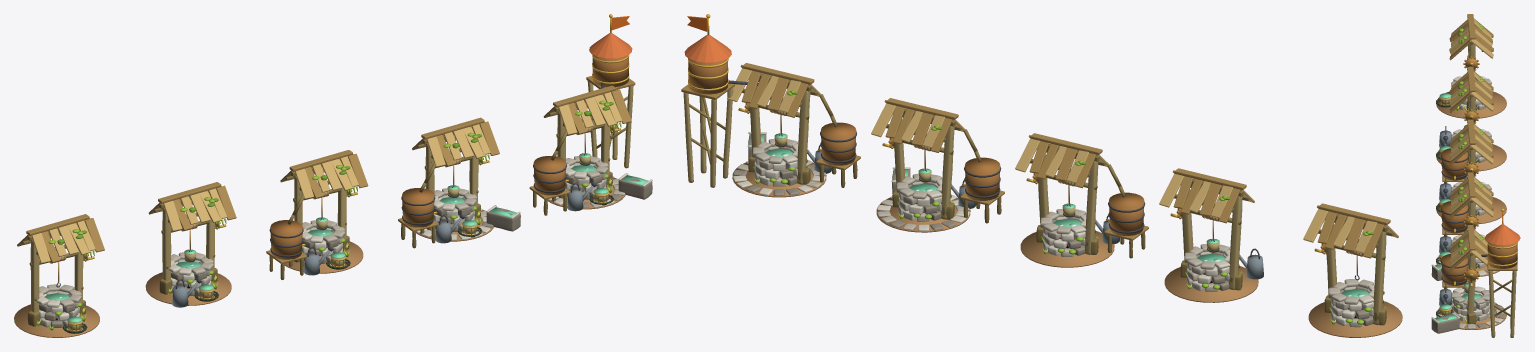
Rendered from puits-niveaux.glb.
The picture shows the model from 3 angles, left to right: view 1: azimuth 30°, elevation 25°; view 2: azimuth 150°, elevation 25°; view 3: azimuth 270°, elevation 25°; orthographic projection. The views are drawn at different scales.
Visible parts, largest first — view 1: cuve.002, poteau.008, planche_toit.005, planche_toit.003, planche_toit.007, planche_toit.009, planche_toit.001, terre_battue, cuve, cuve.001, poteau.002, poteau (+14 smaller); view 2: poteau.008, cuve.002, terre_battue, terre_battue.001, terre_battue.002, planche_toit.004, planche_toit.008, planche_toit.002, planche_toit, planche_toit.006, poteau.002, cuve (+21 smaller); view 3: cuve.002, poteau.008, terre_battue, planche_toit.001, planche_toit.003, planche_toit.007, planche_toit.005, pierre.014, cuve.001, planche_toit.009, cuve, toit (+43 smaller).
Part boxes in pixels (box(x1,y1,x2,y2)): cuve.002: box(533, 55, 628, 195); poteau.008: box(557, 81, 633, 185); planche_toit.005: box(295, 154, 358, 199); planche_toit.003: box(163, 186, 227, 231); planche_toit.007: box(426, 124, 490, 167); planche_toit.009: box(558, 89, 622, 134); planche_toit.001: box(32, 218, 95, 263); terre_battue: box(14, 304, 99, 337); cuve: box(270, 220, 302, 259); cuve.001: box(402, 188, 434, 227); poteau.002: box(162, 208, 214, 280); poteau: box(30, 240, 83, 312); poteau.008: box(683, 79, 810, 187); cuve.002: box(688, 59, 856, 165); terre_battue: box(1308, 301, 1402, 337); terre_battue.001: box(1164, 266, 1258, 302); terre_battue.002: box(1020, 231, 1114, 267); planche_toit.004: box(1028, 135, 1096, 188); planche_toit.008: box(740, 64, 811, 117); planche_toit.002: box(1173, 170, 1243, 223); planche_toit: box(1317, 205, 1386, 258); planche_toit.006: box(884, 100, 952, 152); poteau.002: box(1181, 189, 1242, 289); cuve: box(1109, 192, 1144, 235); cuve.002: box(1441, 242, 1517, 285); poteau.008: box(1467, 255, 1516, 337); terre_battue: box(1436, 91, 1506, 118); planche_toit.001: box(1449, 19, 1493, 58); planche_toit.003: box(1449, 72, 1493, 111); planche_toit.007: box(1449, 177, 1493, 216); planche_toit.005: box(1449, 125, 1493, 163); pierre.014: box(1431, 292, 1506, 333); cuve.001: box(1441, 201, 1467, 233); planche_toit.009: box(1449, 230, 1487, 265); cuve: box(1441, 148, 1467, 180); toit: box(1485, 224, 1520, 245).
Bounding box in the file's own units: 14.34 × 3.32 × 2.15.
